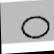no answer: (19, 12, 52, 42)
